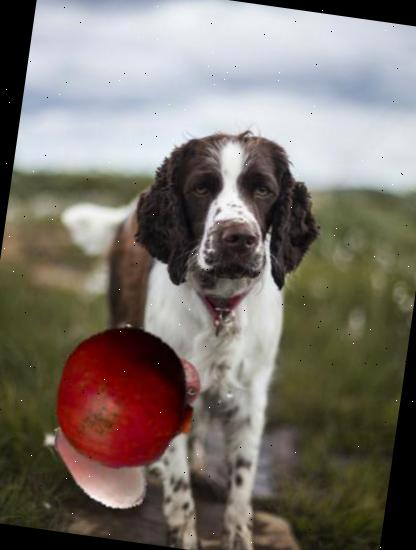Hazelnut: (41, 403, 166, 528)
Onion: (142, 350, 210, 416)
Pomegranate: (44, 316, 207, 480)
